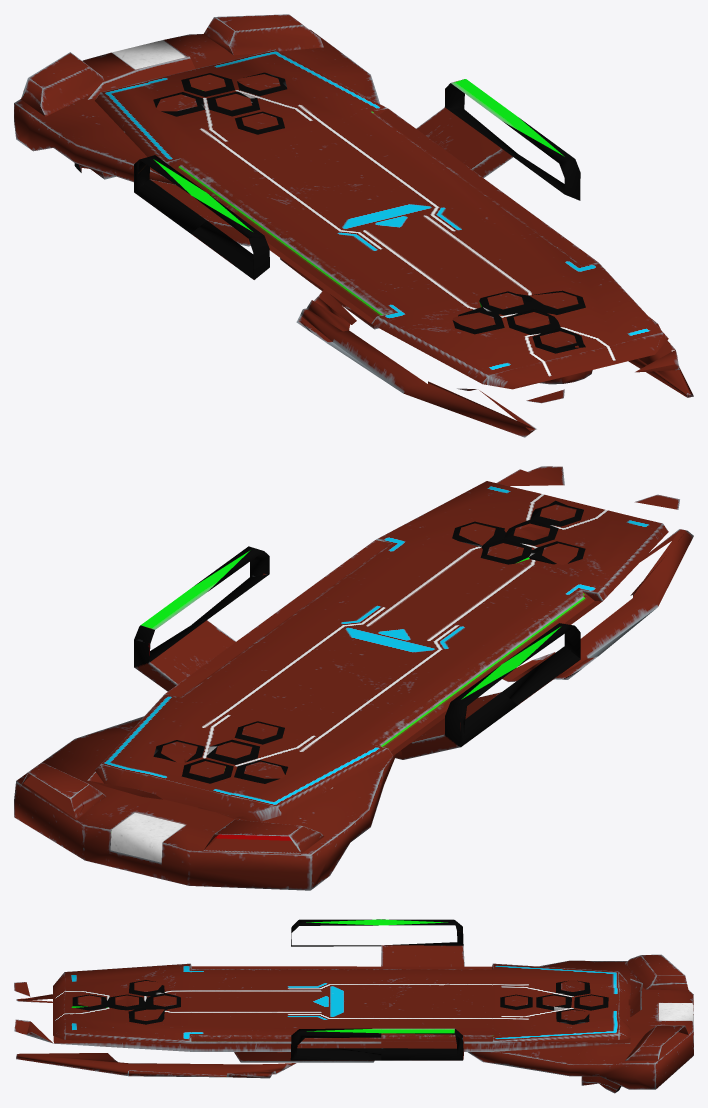
File: hoverboard.glb
3 renders of one model, top to bottom at view 1: azimuth 30°, elevation 25°; view 2: azimuth 150°, elevation 25°; view 3: azimuth 270°, elevation 25°, orthographic. The views are drawn at different scales.
Parts seen in each view (by area): view 1: Hoverboard; view 2: Hoverboard; view 3: Hoverboard.
Part boxes in pixels (x1,y1,x2,y2): Hoverboard: (14, 14, 693, 437); Hoverboard: (14, 466, 693, 890); Hoverboard: (14, 919, 693, 1093).
Bounding box in the file's own units: 0.0403 × 0.013 × 0.1013.
1 material, 1 textured.
